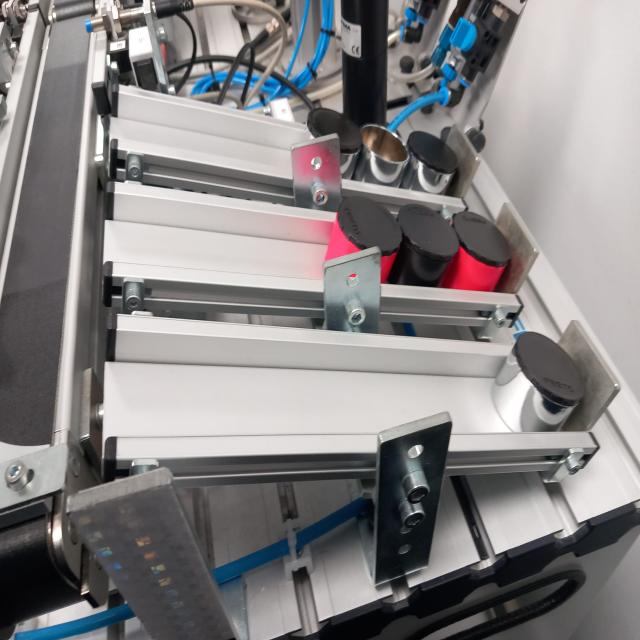NoLid: (362, 108, 412, 190)
Workpiece: (487, 317, 584, 439), (322, 186, 402, 296), (406, 197, 459, 305), (302, 99, 362, 189), (407, 109, 460, 207), (458, 204, 508, 303)
